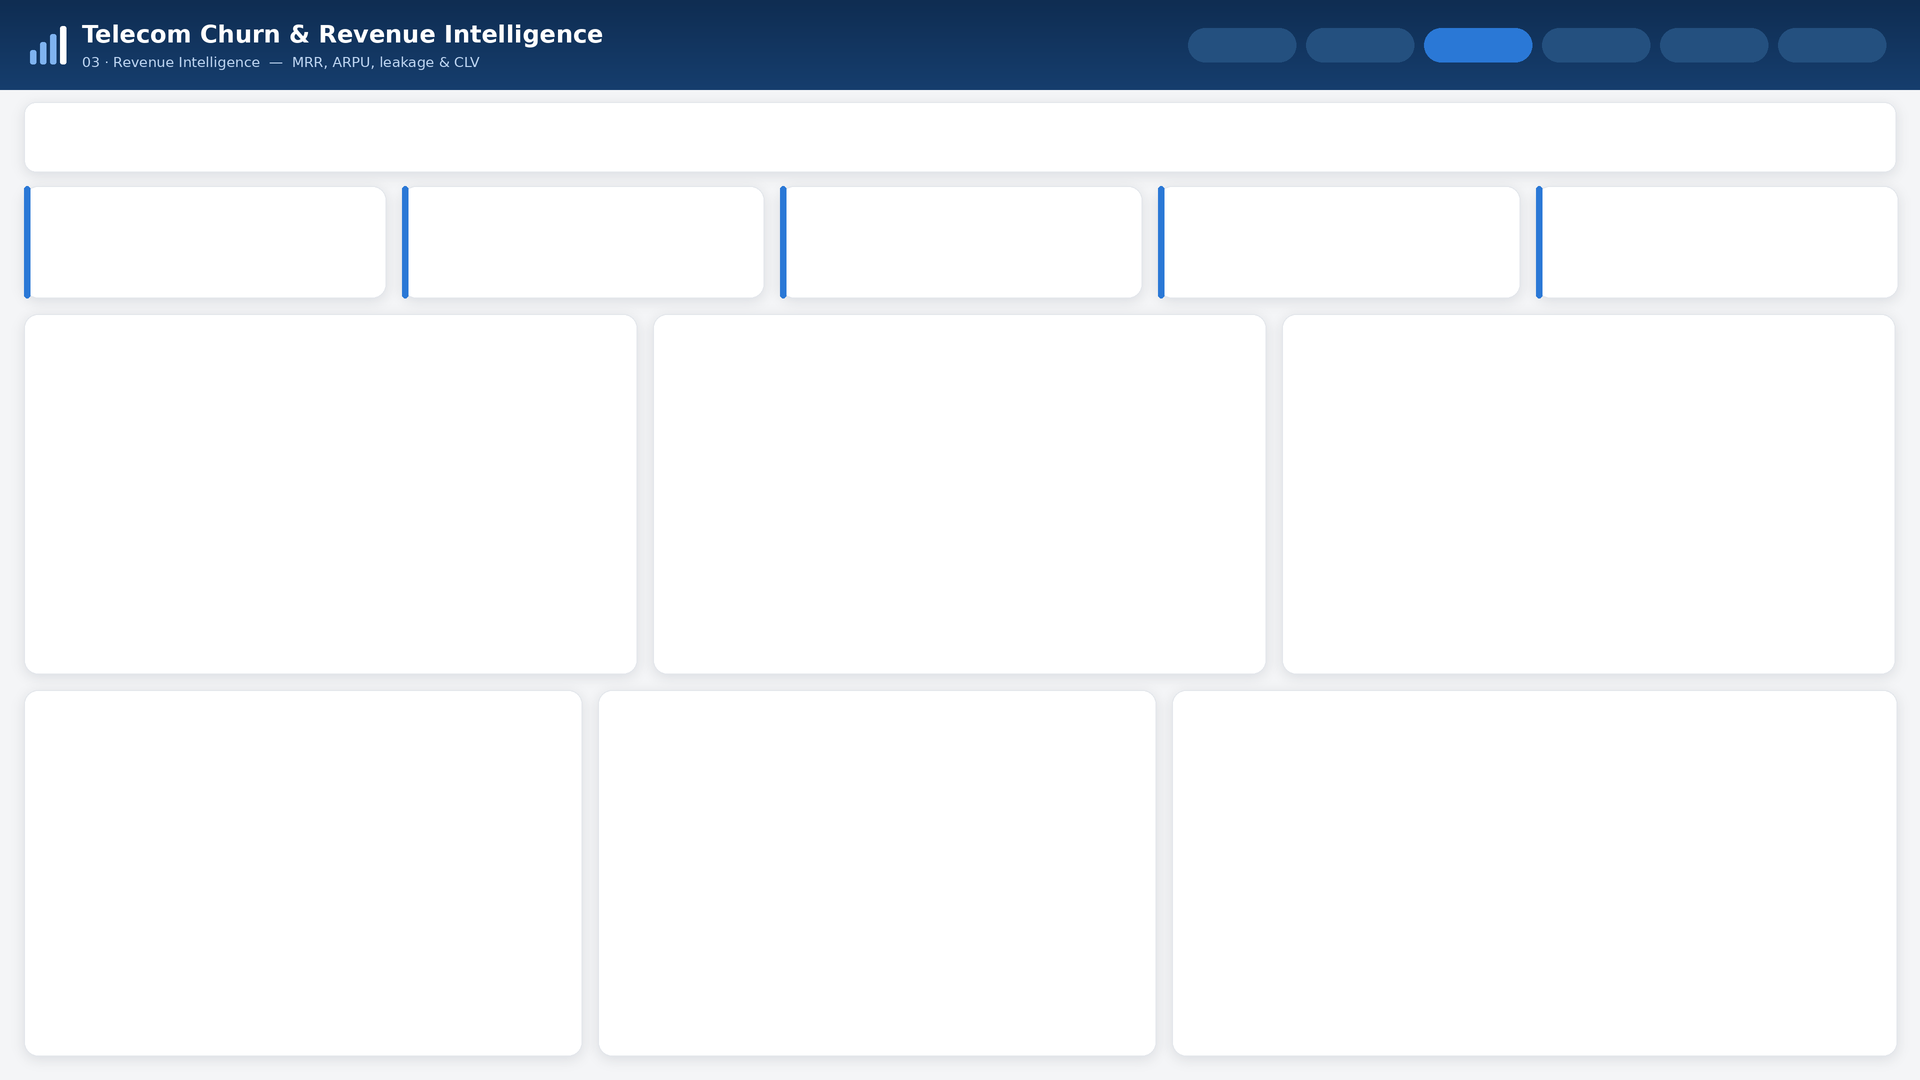

This screenshot's page, from the dashboard's own definition file:
{"tool":"powerbi","page":{"name":"Revenue Intelligence","canvas":[1280,720],"ordinal":2},"visuals":[{"type":"slicer","fields":{"Values":["dim_date.fiscal_year"]},"box":[26,69,299.5,44.7],"z":0},{"type":"slicer","fields":{"Values":["dim_geography.circle"]},"box":[335.5,69,299.5,44.7],"z":1000},{"type":"slicer","fields":{"Values":["dim_customer.service_type"]},"box":[645,69,299.5,44.7],"z":2000},{"type":"slicer","fields":{"Values":["dim_customer.contract_type"]},"box":[954.5,69,299.5,44.7],"z":3000},{"type":"card","fields":{"Values":["_Measures.Total Revenue"]},"box":[28,128,225.3,66.7],"z":4000},{"type":"card","fields":{"Values":["_Measures.Collection Efficiency %"]},"box":[280,128,225.3,66.7],"z":5000},{"type":"card","fields":{"Values":["_Measures.ARPU"]},"box":[532,128,225.3,66.7],"z":6000},{"type":"card","fields":{"Values":["_Measures.MRR Lost to Churn"]},"box":[784,128,225.3,66.7],"z":7000},{"type":"card","fields":{"Values":["_Measures.Top 20% Revenue Share"]},"box":[1036,128,225.3,66.7],"z":8000},{"type":"areaChart","title":"Cumulative revenue","fields":{"Category":["dim_date.month_start"],"Y":["_Measures.Revenue Running Total"]},"box":[20,213.3,400.7,232],"z":9000},{"type":"lineChart","title":"ARPU trend","fields":{"Category":["dim_date.month_start"],"Y":["_Measures.ARPU"]},"box":[439.3,213.3,400.7,232],"z":10000},{"type":"clusteredColumnChart","title":"Net new MRR (new - churned)","fields":{"Category":["dim_date.month_start"],"Y":["_Measures.Net New MRR"]},"box":[858.7,213.3,400.7,232],"z":11000},{"type":"clusteredBarChart","title":"Revenue by circle","fields":{"Category":["dim_geography.circle"],"Y":["_Measures.Total Revenue"]},"box":[20,464,364,236],"z":12000},{"type":"treemap","title":"Revenue by plan","fields":{"Group":["dim_plan.plan_name"],"Values":["_Measures.Total Revenue"]},"box":[402.7,464,364,236],"z":13000},{"type":"tableEx","title":"Segment economics","fields":{"Values":["dim_customer.service_type","dim_customer.contract_type","_Measures.Total Customers","_Measures.Avg Monthly Charge","_Measures.Churn Rate %","_Measures.Avg Predicted CLV"]},"box":[785.3,464,475.3,236],"z":14000}]}

Visuals, with their boxes in screenshot pixels (x1, y1, x2, y2), scaled from the page's 1280x720 canvas onto the 1920x1080 screenshot:
slicer - dim_date.fiscal_year: BBox(39, 104, 488, 171)
slicer - dim_geography.circle: BBox(503, 104, 952, 171)
slicer - dim_customer.service_type: BBox(968, 104, 1417, 171)
slicer - dim_customer.contract_type: BBox(1432, 104, 1881, 171)
card - _Measures.Total Revenue: BBox(42, 192, 380, 292)
card - _Measures.Collection Efficiency %: BBox(420, 192, 758, 292)
card - _Measures.ARPU: BBox(798, 192, 1136, 292)
card - _Measures.MRR Lost to Churn: BBox(1176, 192, 1514, 292)
card - _Measures.Top 20% Revenue Share: BBox(1554, 192, 1892, 292)
"Cumulative revenue" areaChart: BBox(30, 320, 631, 668)
"ARPU trend" lineChart: BBox(659, 320, 1260, 668)
"Net new MRR (new - churned)" clusteredColumnChart: BBox(1288, 320, 1889, 668)
"Revenue by circle" clusteredBarChart: BBox(30, 696, 576, 1050)
"Revenue by plan" treemap: BBox(604, 696, 1150, 1050)
"Segment economics" tableEx: BBox(1178, 696, 1891, 1050)
